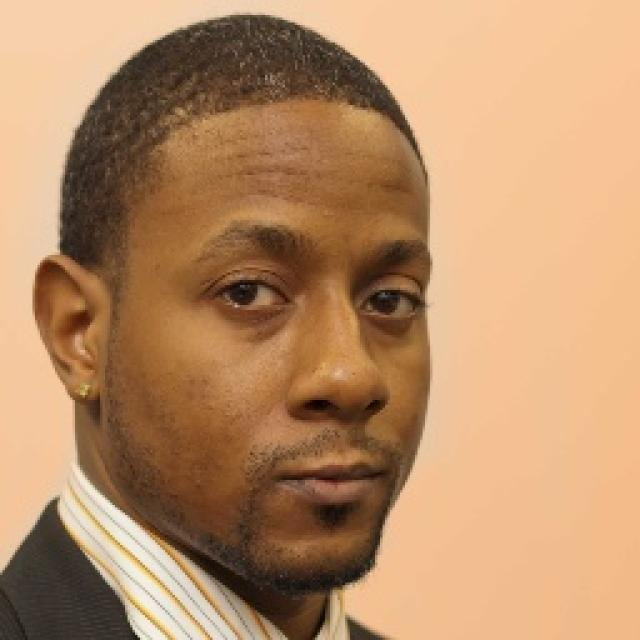earlobe: (65, 356, 104, 404)
eye: (216, 280, 288, 310), (361, 285, 420, 319)
nose: (283, 392, 410, 457)
wholeear: (32, 254, 104, 404)
